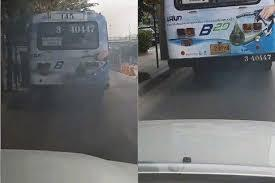smoke: (6, 5, 135, 152), (175, 60, 250, 95)
